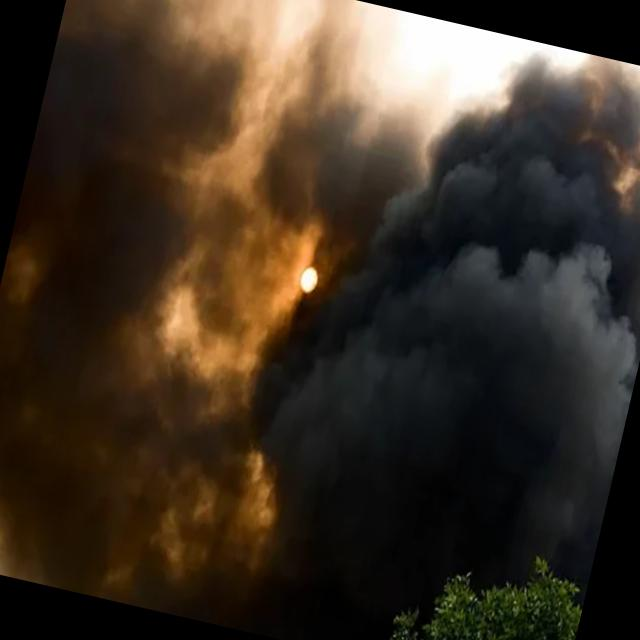Smoke: (210, 0, 640, 634), (0, 0, 338, 619)
